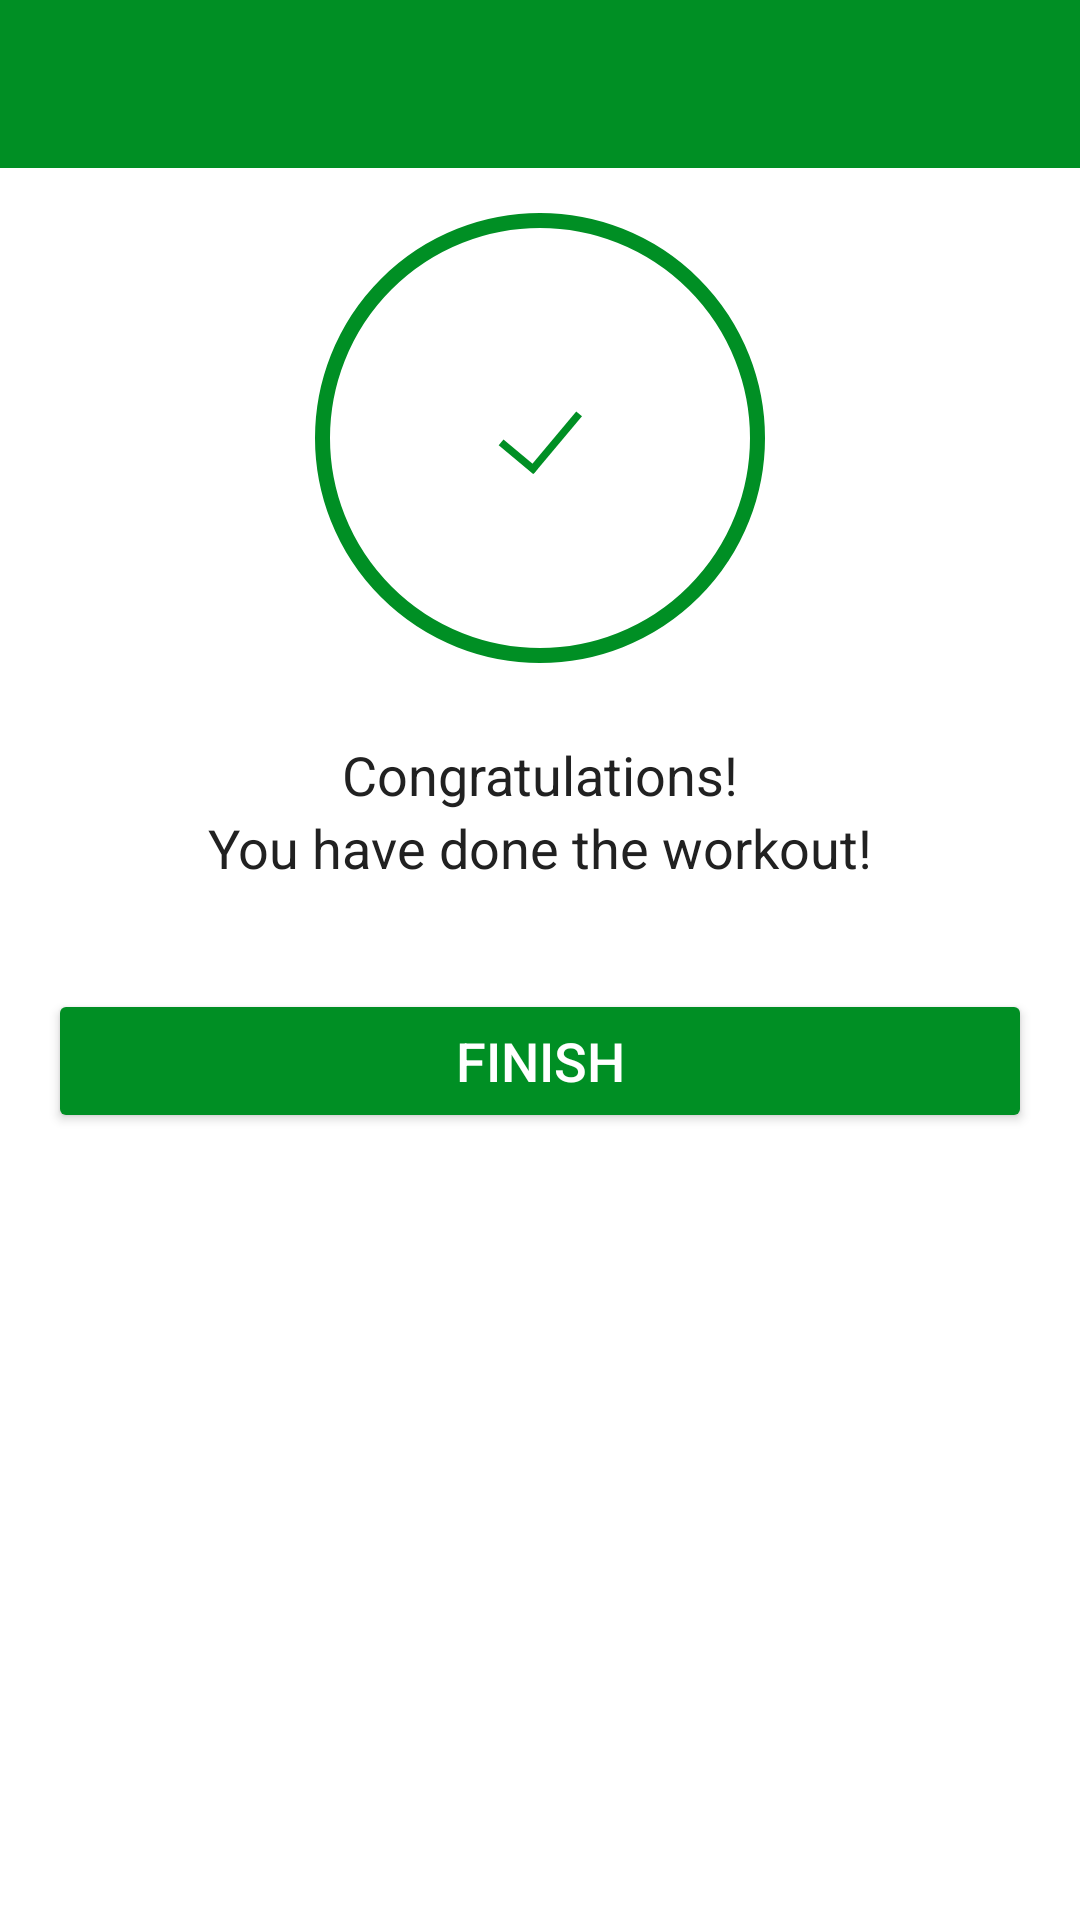

Screen size 1080 x 1920. Icon name, then its box in pixels as (x1, y1, x2, y2):
tick: (499, 411, 582, 474)
